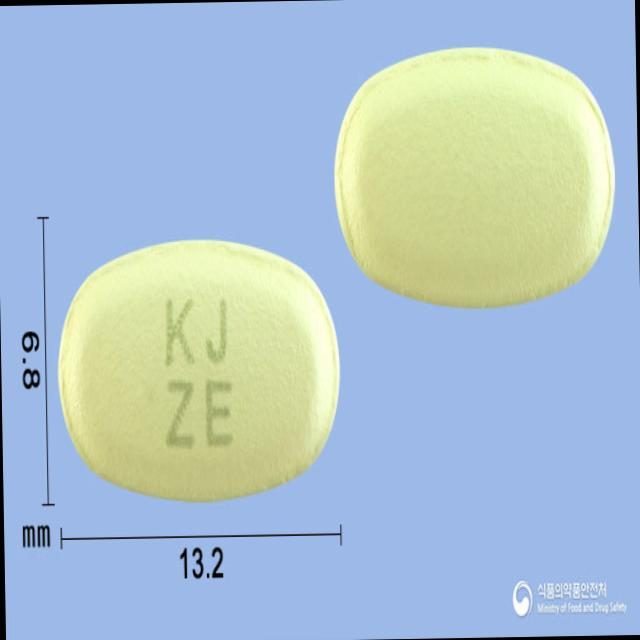Zecla Tab: (55, 234, 343, 504)
